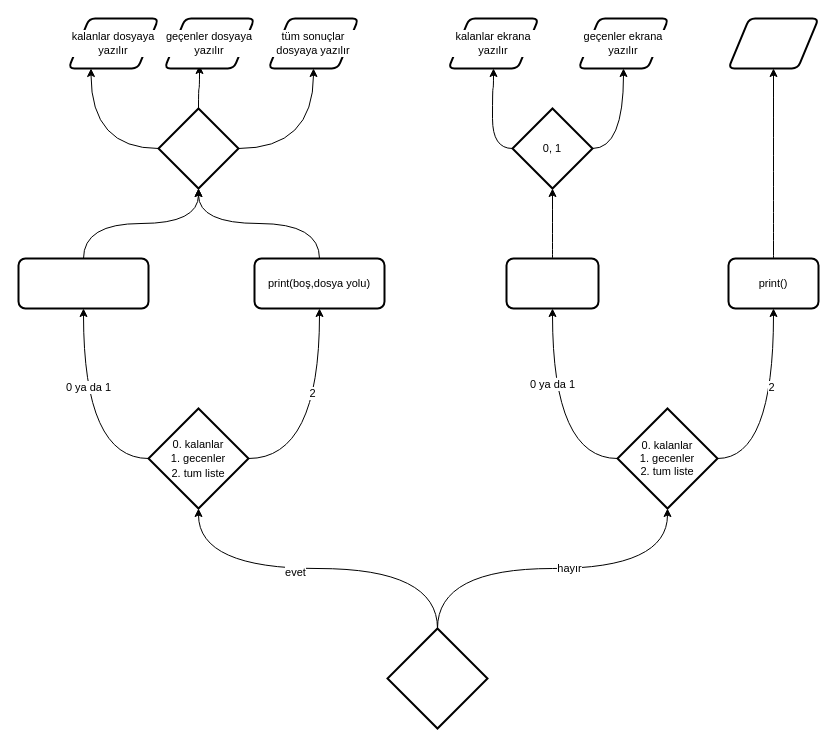
This 836x746 diagram has some shape labels left out. The centre of each missing label's shape, as x and y in pixels:
0, 1, boş: the point at 198,148
dosyaya yaz?: the point at 437,678
print( sayi, dosya yolu): the point at 83,283
print(sayi, boş): the point at 552,283
tüm sonuçlar ekrana yazılır: the point at 773,43
